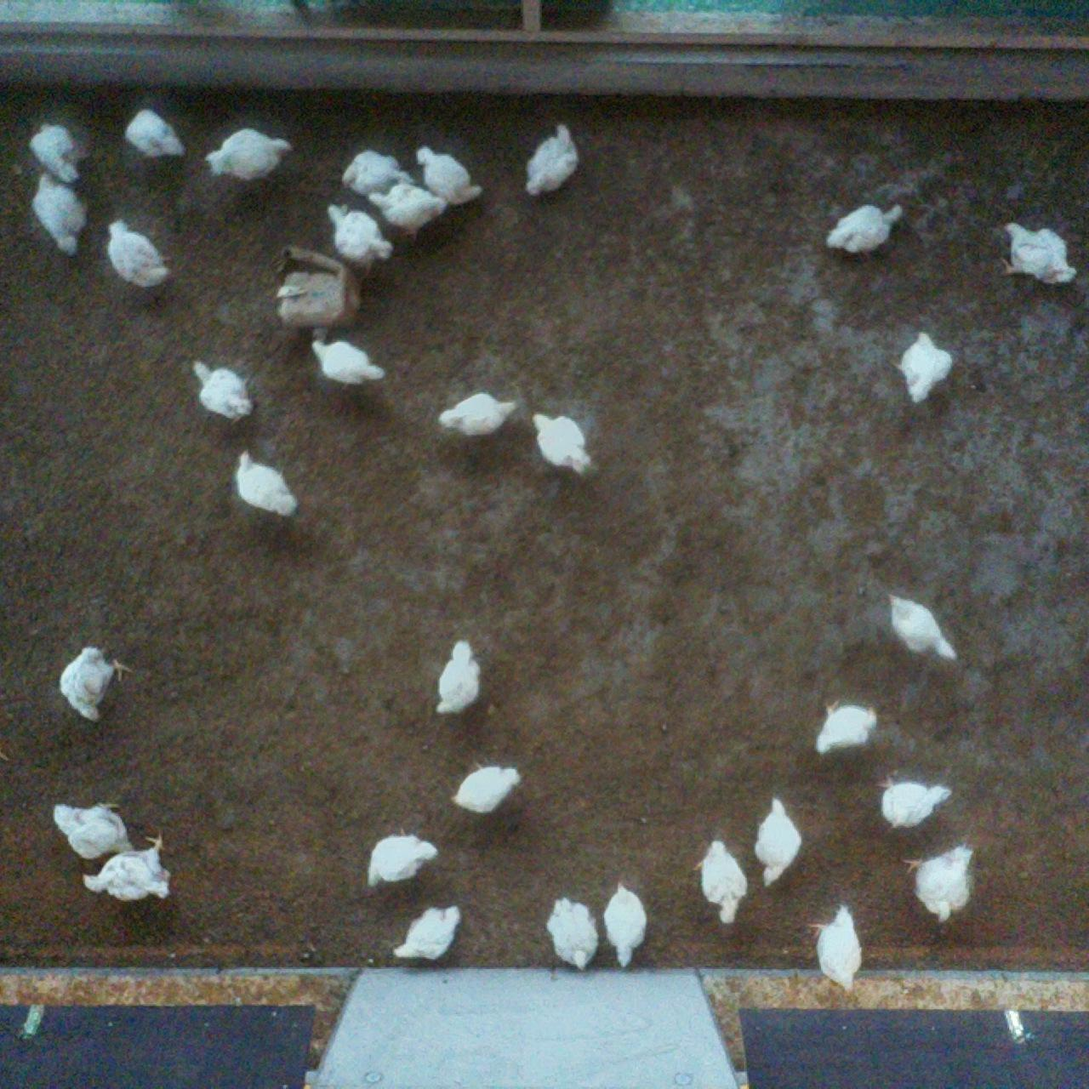chicken: (76, 827, 180, 907), (53, 641, 136, 727), (804, 898, 868, 1001), (900, 842, 977, 927), (47, 793, 144, 857), (995, 218, 1083, 288), (28, 166, 92, 262), (199, 124, 298, 185), (322, 196, 396, 277), (227, 443, 303, 521), (100, 212, 174, 292), (886, 328, 958, 409), (746, 793, 807, 888), (360, 822, 441, 893), (885, 589, 961, 664), (522, 115, 586, 201), (187, 354, 259, 429), (823, 200, 910, 261), (691, 838, 749, 928), (872, 770, 955, 832), (366, 180, 450, 241), (306, 332, 391, 391), (388, 903, 465, 968), (541, 892, 600, 976), (600, 877, 653, 970), (411, 143, 486, 208), (447, 755, 524, 818), (433, 388, 520, 443), (526, 408, 595, 477), (431, 634, 485, 720), (21, 120, 91, 184), (118, 105, 189, 167), (814, 694, 882, 758), (334, 146, 416, 199)
